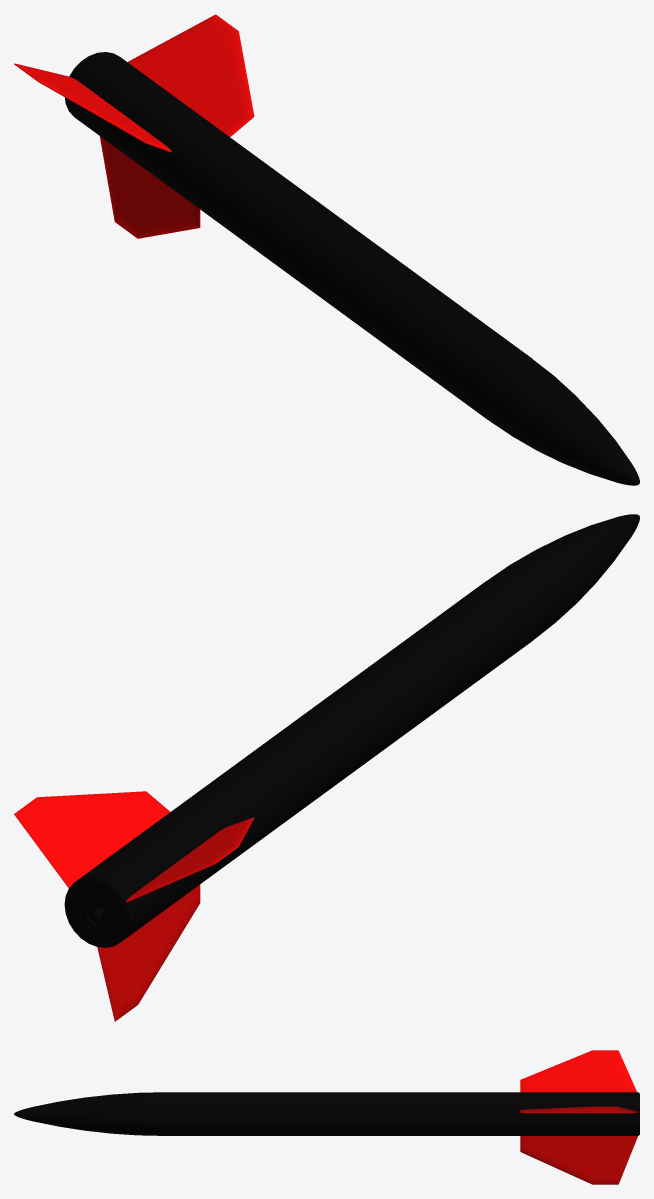
File: Assembled Artemis.glb
3 views of the same model, one above another, from view 1: azimuth 30°, elevation 25°; view 2: azimuth 150°, elevation 25°; view 3: azimuth 270°, elevation 25° (orthographic). The views are drawn at different scales.
Visible parts, largest first — view 1: Assembled Artemis; view 2: Assembled Artemis; view 3: Assembled Artemis.
Boxes of the visible parts, x1,y1,x2,y2 form: Assembled Artemis: (14,14,639,485); Assembled Artemis: (14,514,639,1021); Assembled Artemis: (14,1050,639,1184).
Size of the model in its own units: 17.27 by 14.97 by 80.32.
